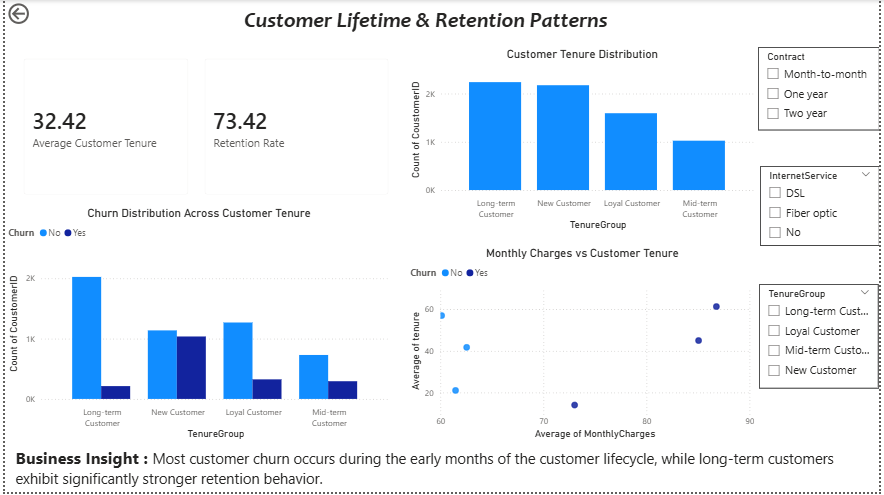

The dashboard page shown, as its layout file describes it:
{"tool":"powerbi","page":{"name":"Customer Lifetime & Retention Patterns","canvas":[1280,720],"ordinal":2},"visuals":[{"type":"cardVisual","fields":{"Data":["Avg(Cleaned_Telco_Customer_Churn.tenure)"]},"box":[10,68.3,275,233.3],"z":0},{"type":"clusteredColumnChart","title":"Customer Tenure Distribution","fields":{"Y":["CountNonNull(Cleaned_Telco_Customer_Churn.CoustomerID)"],"Category":["Cleaned_Telco_Customer_Churn.TenureGroup"]},"box":[588.3,68.3,513.3,273.3],"z":1000},{"type":"clusteredColumnChart","title":"Churn Distribution Across Customer Tenure","fields":{"Y":["CountNonNull(Cleaned_Telco_Customer_Churn.CoustomerID)"],"Series":["Cleaned_Telco_Customer_Churn.Churn"],"Category":["Cleaned_Telco_Customer_Churn.TenureGroup"]},"box":[0,301.7,568.3,346.7],"z":2000},{"type":"scatterChart","title":"Monthly Charges vs Customer Tenure","fields":{"X":["Avg(Cleaned_Telco_Customer_Churn.MonthlyCharges)"],"Y":["Avg(Cleaned_Telco_Customer_Churn.tenure)"],"Series":["Cleaned_Telco_Customer_Churn.Churn"],"Category":["Cleaned_Telco_Customer_Churn.Contract"]},"box":[588.3,360,513.3,288.3],"z":3000},{"type":"actionButton","box":[0,0,100,40],"z":4000},{"type":"textbox","box":[275,5,681.7,63.3],"z":5000},{"type":"textbox","box":[10,648.3,1270,71.7],"z":6000},{"type":"slicer","fields":{"Values":["Cleaned_Telco_Customer_Churn.Contract"]},"box":[1101.7,68.3,178.3,121.7],"z":7000},{"type":"slicer","fields":{"Values":["Cleaned_Telco_Customer_Churn.InternetService"]},"box":[1105,243.3,175,116.7],"z":8000},{"type":"slicer","fields":{"Values":["Cleaned_Telco_Customer_Churn.TenureGroup"]},"box":[1103.3,415,175,153.3],"z":9000},{"type":"cardVisual","fields":{"Data":["Cleaned_Telco_Customer_Churn.Retention Rate"]},"box":[275,68.3,303.3,233.3],"z":10000}]}

Visuals, with their boxes in screenshot pixels (x1, y1, x2, y2), scaled from the page's 1280x720 canvas onto the 884x495 screenshot:
cardVisual - Avg(Cleaned_Telco_Customer_Churn.tenure): {"left": 7, "top": 47, "right": 197, "bottom": 207}
"Customer Tenure Distribution" clusteredColumnChart: {"left": 406, "top": 47, "right": 761, "bottom": 235}
"Churn Distribution Across Customer Tenure" clusteredColumnChart: {"left": 0, "top": 207, "right": 392, "bottom": 446}
"Monthly Charges vs Customer Tenure" scatterChart: {"left": 406, "top": 248, "right": 761, "bottom": 446}
actionButton: {"left": 0, "top": 0, "right": 69, "bottom": 28}
textbox: {"left": 190, "top": 3, "right": 661, "bottom": 47}
textbox: {"left": 7, "top": 446, "right": 883, "bottom": 494}
slicer - Cleaned_Telco_Customer_Churn.Contract: {"left": 761, "top": 47, "right": 883, "bottom": 131}
slicer - Cleaned_Telco_Customer_Churn.InternetService: {"left": 763, "top": 167, "right": 883, "bottom": 248}
slicer - Cleaned_Telco_Customer_Churn.TenureGroup: {"left": 762, "top": 285, "right": 883, "bottom": 391}
cardVisual - Cleaned_Telco_Customer_Churn.Retention Rate: {"left": 190, "top": 47, "right": 399, "bottom": 207}
